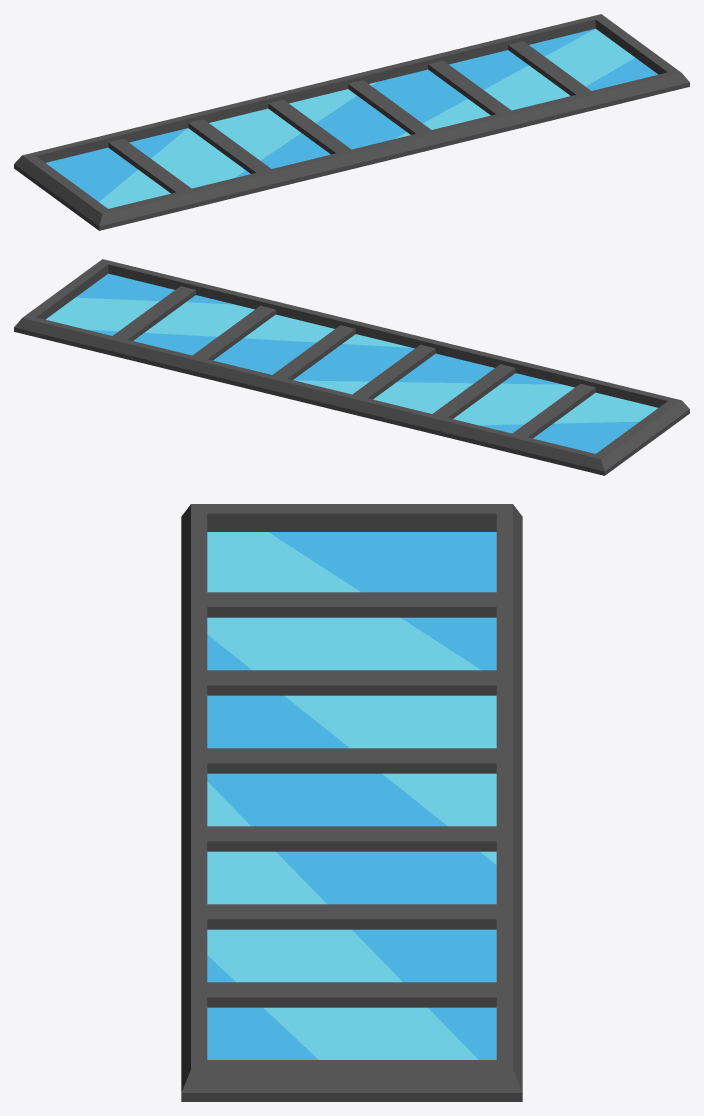
Rendered from Prop_RoofWindow_04.fbx.
3 views of the same model, one above another, from view 1: azimuth 30°, elevation 25°; view 2: azimuth 150°, elevation 25°; view 3: azimuth 270°, elevation 25° (orthographic). The views are drawn at different scales.
Parts seen in each view (by area): view 1: Prop_RoofWindow_04; view 2: Prop_RoofWindow_04; view 3: Prop_RoofWindow_04.
Part boxes in pixels (left/top/right/bottom): Prop_RoofWindow_04: left=14, top=14, right=689, bottom=230; Prop_RoofWindow_04: left=14, top=259, right=689, bottom=475; Prop_RoofWindow_04: left=181, top=504, right=522, bottom=1101.
Size of the model in its own units: 400 by 8.71 by 100.
